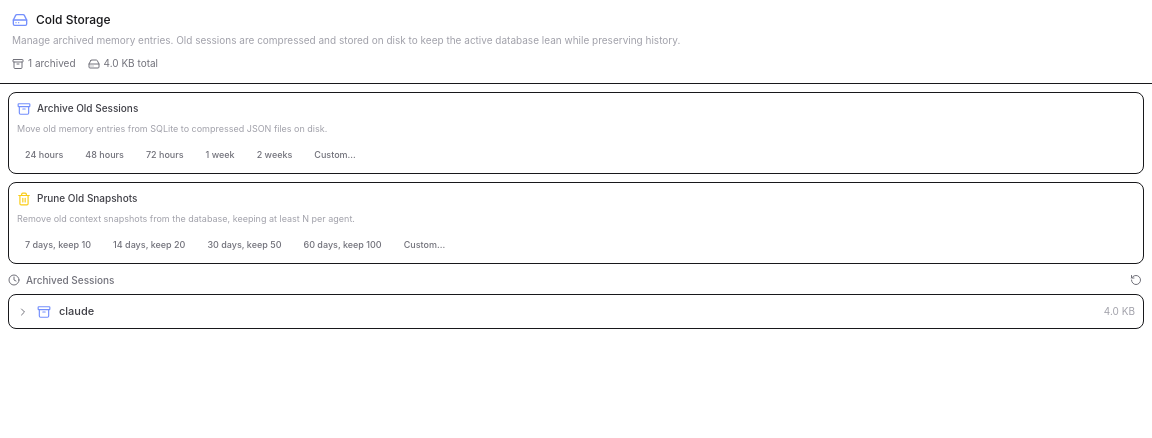
it: ColdStoragePanel › archived sessions list › collapses a session row when clicked again
Click the text "claude": (77,312) [59,303,94,320]
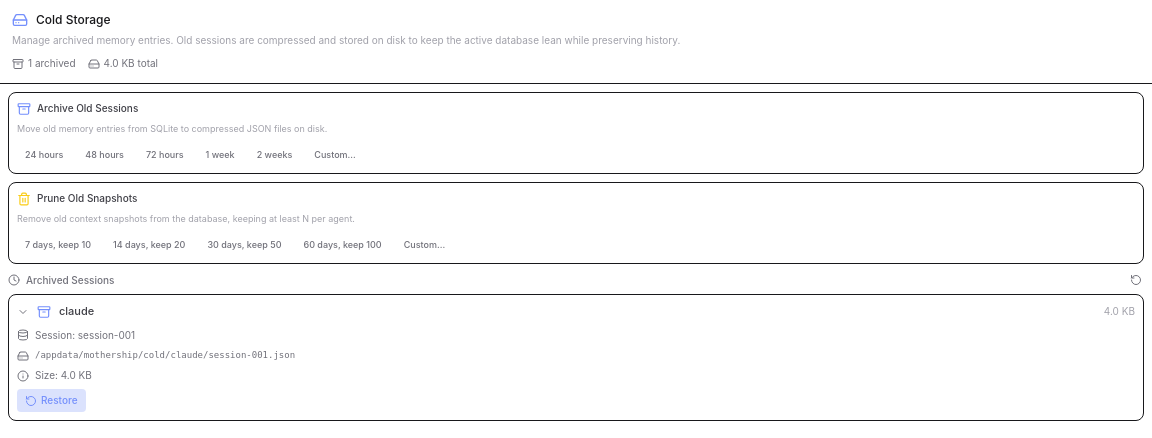
expect the button "Restore" is shown: met, box [17,389,86,412]
# Click again to collapse
Click the text "claude": (77,312) [59,303,94,320]
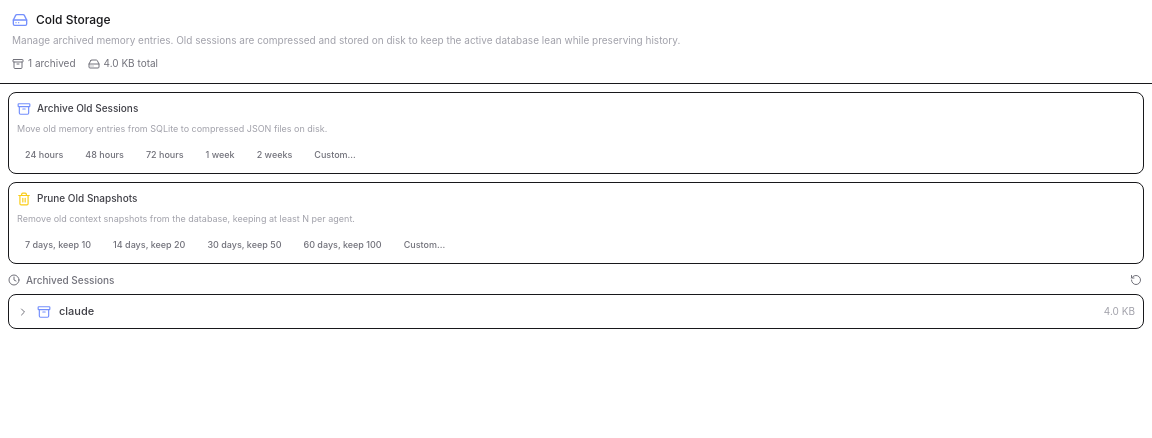
expect the button "Restore" is gone: met
